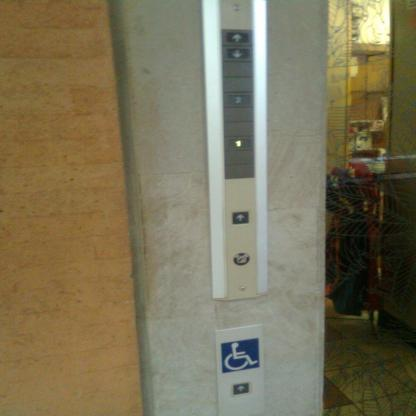1: (226, 138, 252, 149)
2: (225, 93, 252, 104)
CH: (220, 337, 260, 373)
down: (224, 47, 250, 59)
keyhole: (233, 252, 250, 266)
up: (231, 381, 252, 398), (225, 31, 251, 43), (231, 210, 249, 224)
